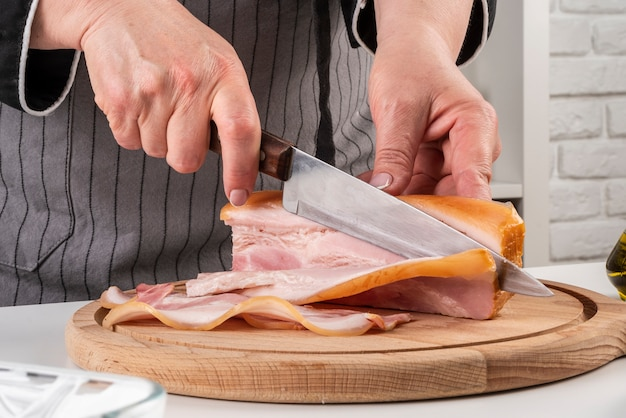knife: (256, 129, 555, 299)
